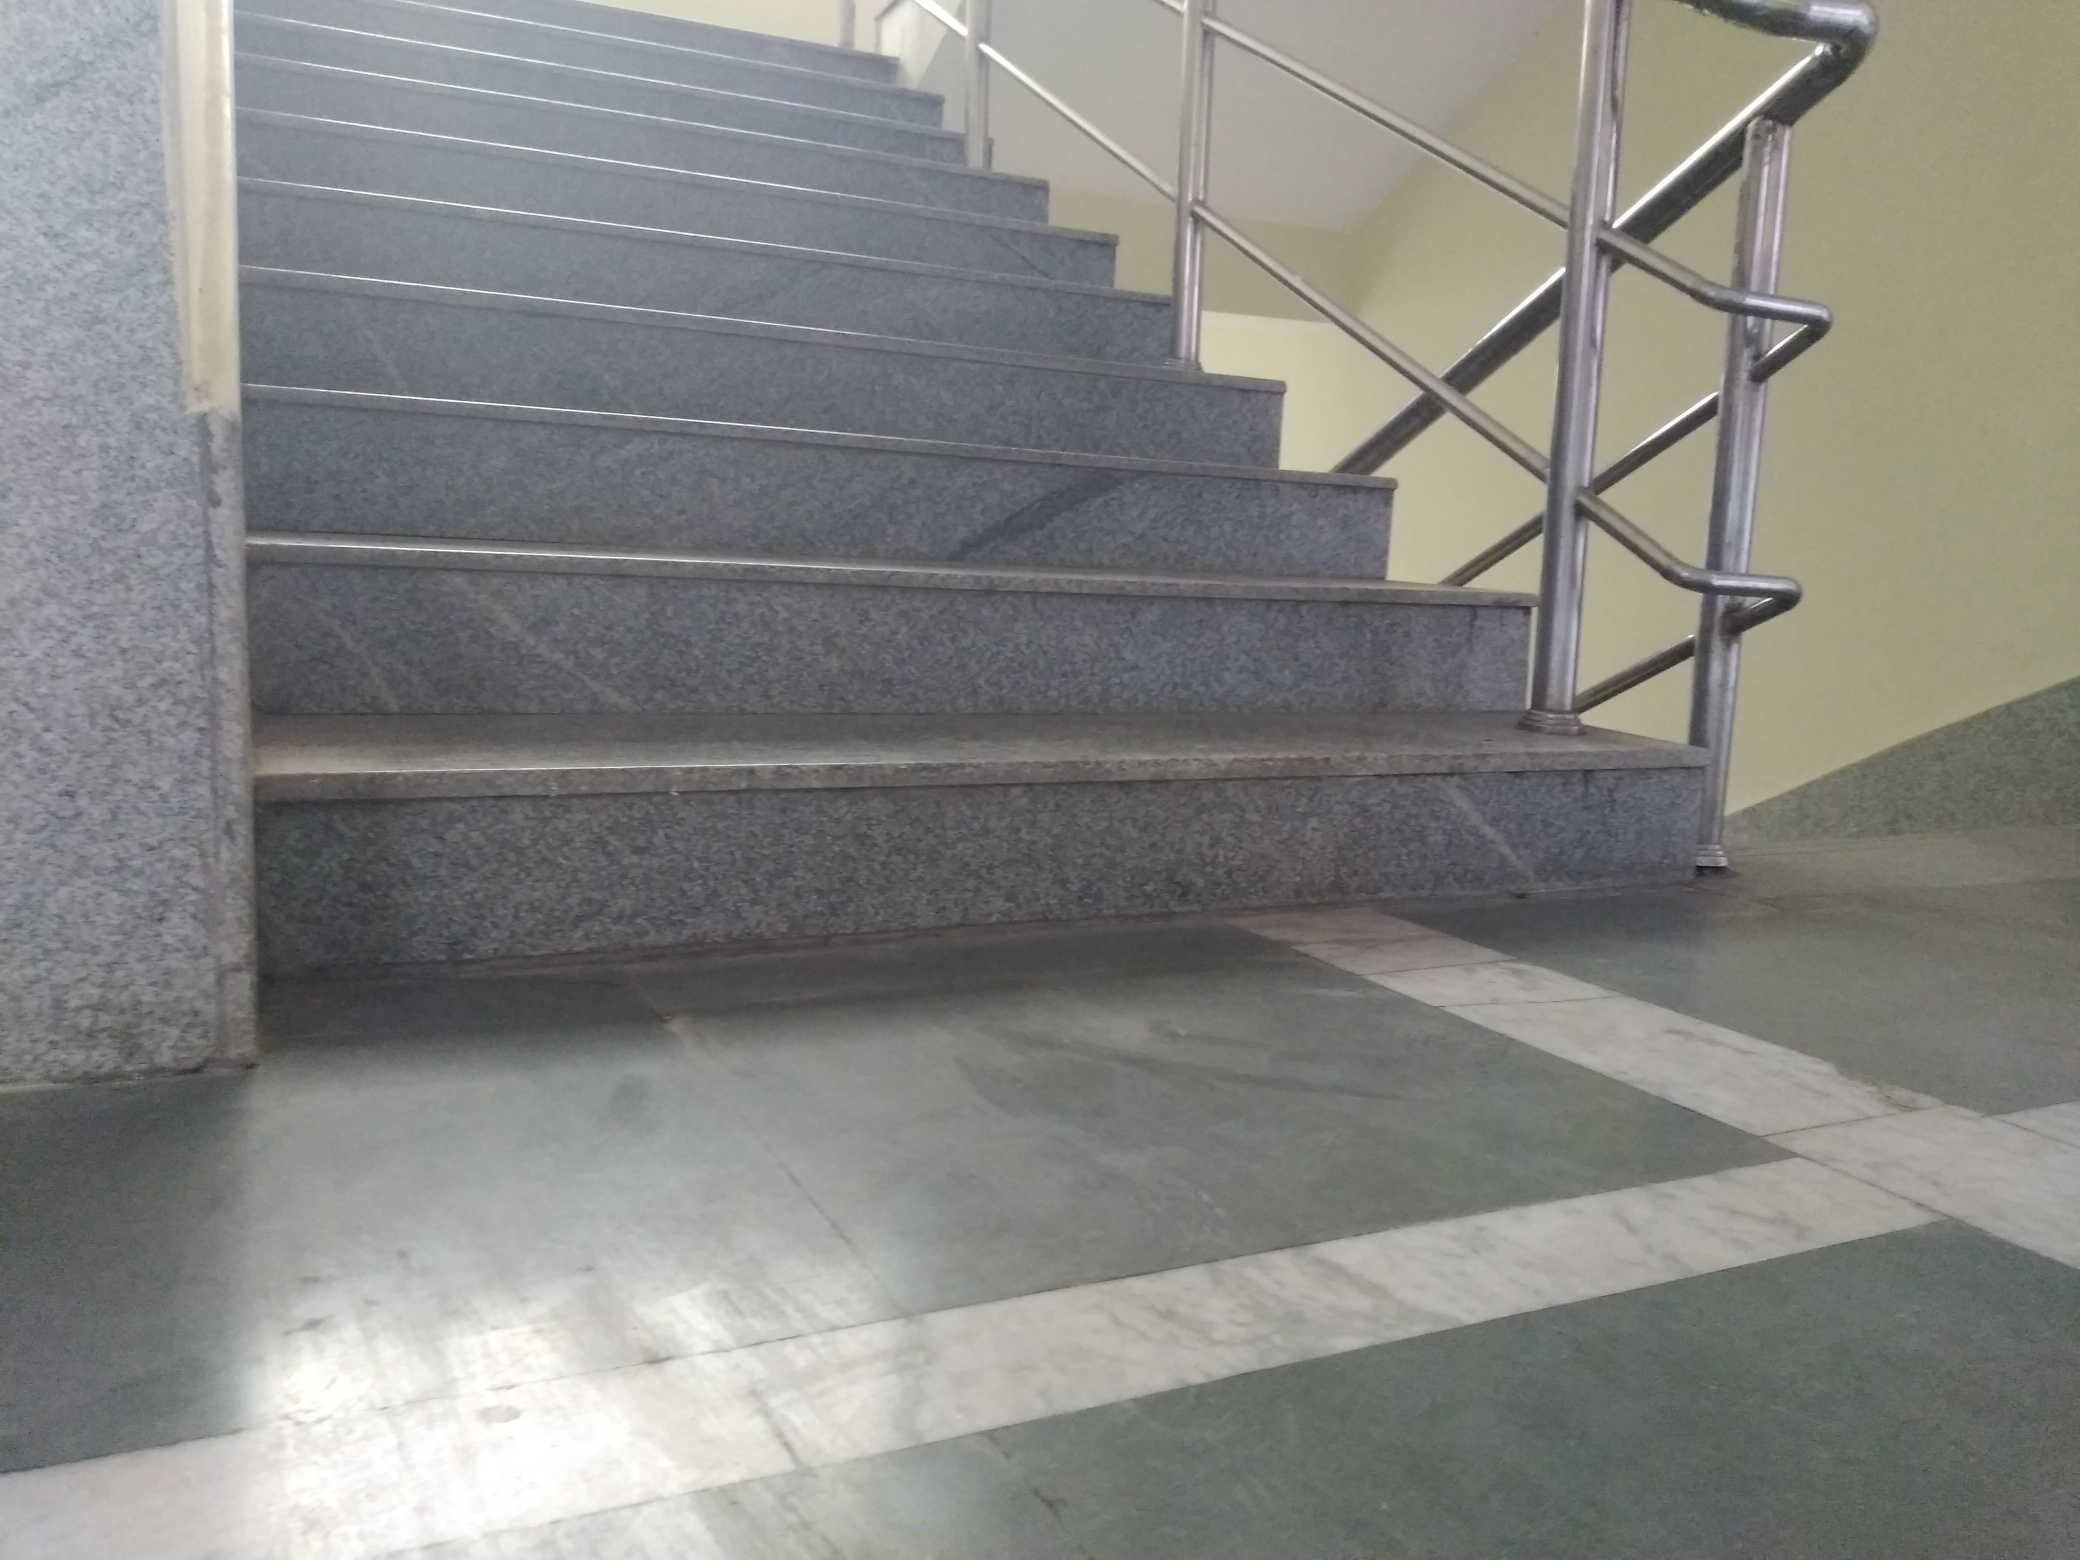stairs_up: (219, 3, 1733, 977)
